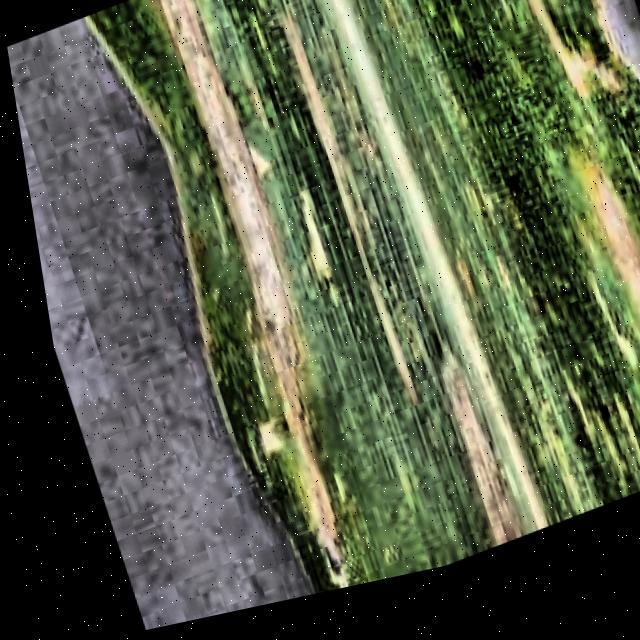blight: (91, 0, 640, 620)
